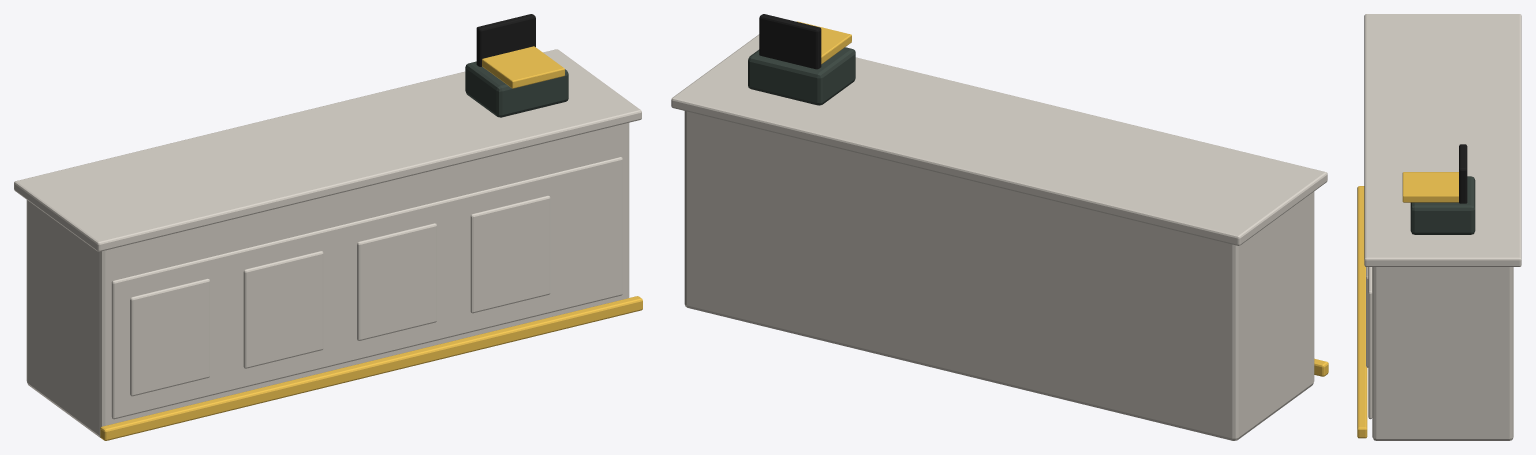
Rendered from bancone-marmo.glb.
3 renders of one model, left to right at view 1: azimuth 30°, elevation 25°; view 2: azimuth 150°, elevation 25°; view 3: azimuth 270°, elevation 25°, orthographic. The views are drawn at different scales.
Visible parts, largest first — view 1: Cube.001, Cube.002, Cube, Cube.010, Cube.006, Cube.004, Cube.003, Cube.005, Cube.007, Cube.009, Cube.008; view 2: Cube, Cube.001, Cube.007, Cube.008, Cube.009; view 3: Cube.001, Cube, Cube.007, Cube.010, Cube.009, Cube.002, Cube.008, Cube.006.
Part boxes in pixels (left/top/right/bottom): Cube.001: left=14, top=49, right=641, bottom=251; Cube.002: left=111, top=157, right=622, bottom=419; Cube: left=26, top=123, right=629, bottom=437; Cube.010: left=100, top=296, right=642, bottom=440; Cube.006: left=470, top=195, right=550, bottom=313; Cube.004: left=243, top=251, right=323, bottom=368; Cube.003: left=130, top=278, right=209, bottom=396; Cube.005: left=357, top=223, right=436, bottom=340; Cube.007: left=465, top=61, right=568, bottom=117; Cube.009: left=482, top=46, right=564, bottom=88; Cube.008: left=476, top=14, right=535, bottom=66; Cube: left=684, top=111, right=1314, bottom=440; Cube.001: left=671, top=34, right=1327, bottom=245; Cube.007: left=748, top=47, right=855, bottom=105; Cube.008: left=759, top=14, right=821, bottom=69; Cube.009: left=797, top=21, right=851, bottom=64; Cube.001: left=1364, top=14, right=1521, bottom=266; Cube: left=1372, top=267, right=1513, bottom=440; Cube.007: left=1410, top=176, right=1475, bottom=234; Cube.010: left=1357, top=186, right=1367, bottom=438; Cube.009: left=1402, top=172, right=1458, bottom=202; Cube.002: left=1368, top=267, right=1372, bottom=419; Cube.008: left=1459, top=144, right=1467, bottom=203; Cube.006: left=1366, top=267, right=1368, bottom=367.
Size of the model in its own units: 2.88 by 1.38 by 0.815.
